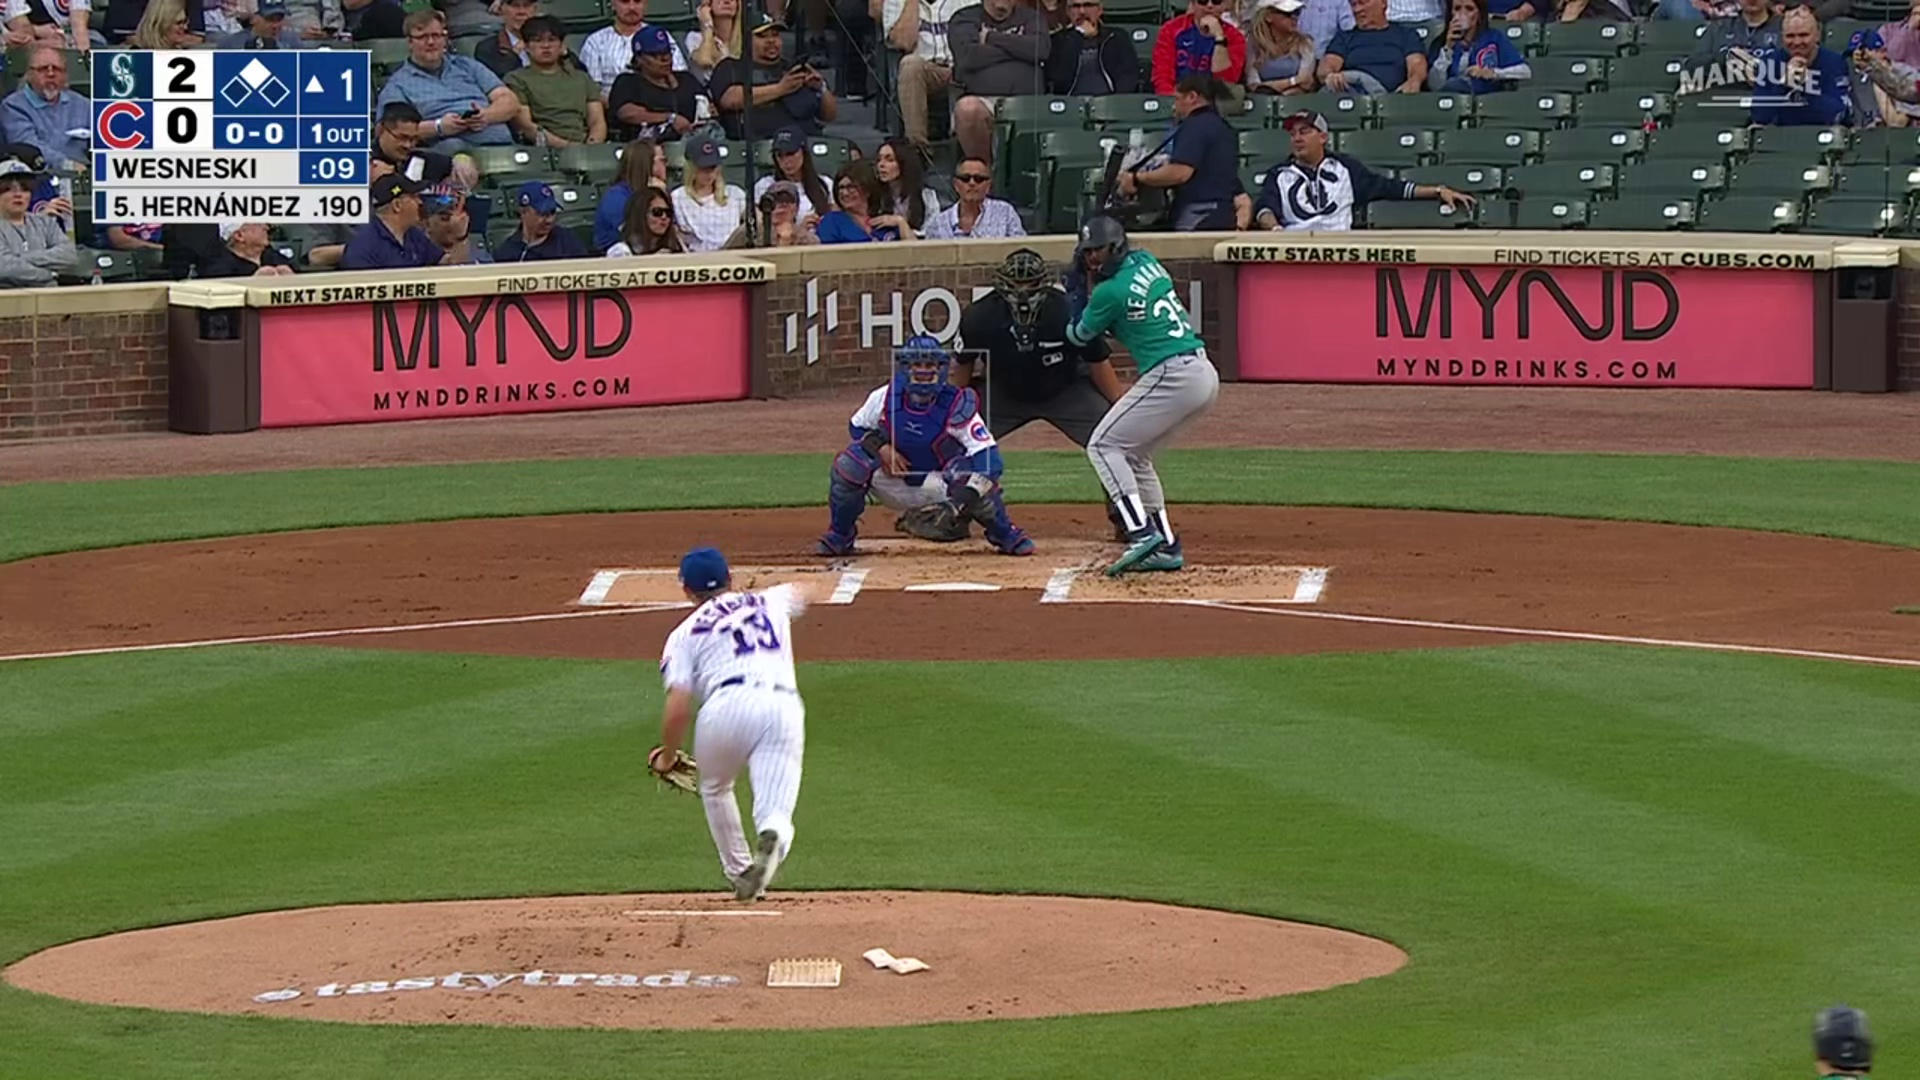baseball: (922, 471, 942, 491)
